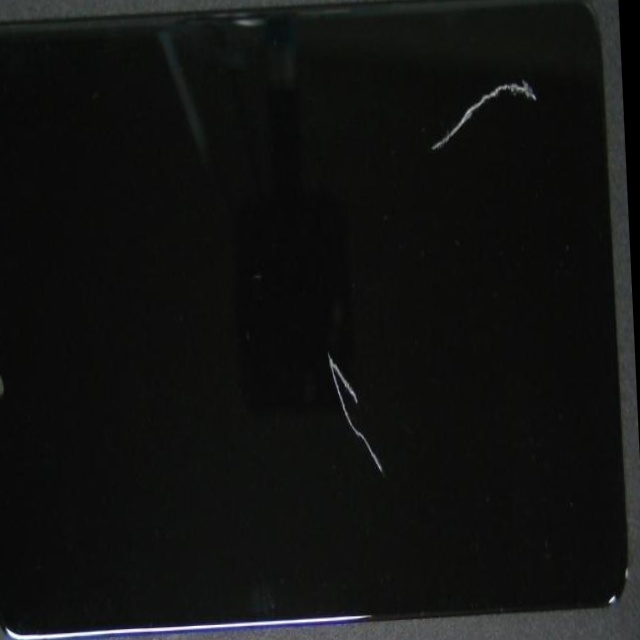scratch: (119, 52, 515, 617), (311, 0, 626, 186)
